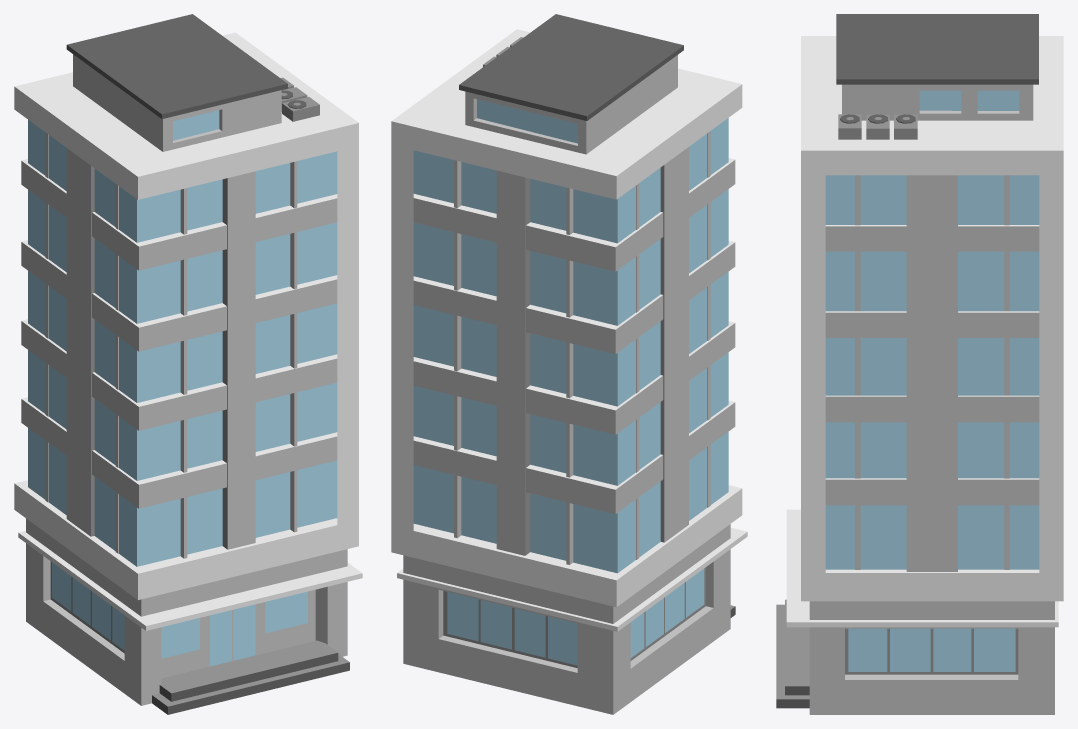
File: house_middle_004.fbx
3 views of the same model, side by side, from view 1: azimuth 30°, elevation 25°; view 2: azimuth 150°, elevation 25°; view 3: azimuth 270°, elevation 25° (orthographic). The views are drawn at different scales.
Visible parts, largest first — view 1: house_middle_004; view 2: house_middle_004; view 3: house_middle_004.
Part boxes in pixels (box(x1,y1,x2,y2)): house_middle_004: box(14, 14, 362, 714); house_middle_004: box(391, 14, 747, 714); house_middle_004: box(776, 14, 1063, 714).
Bounding box in the file's own units: 713 × 1769 × 754.
